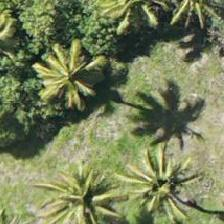coconut_tree: (15, 29, 105, 119), (109, 149, 199, 223), (45, 157, 135, 223)
